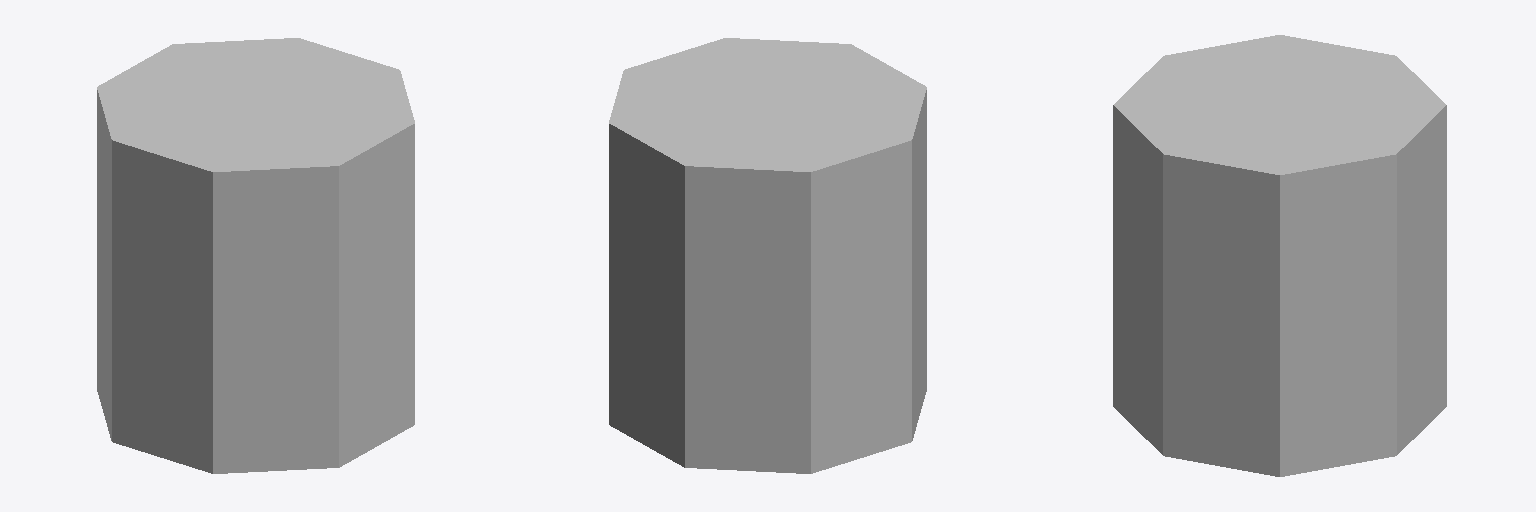
The model's file is NormalMapTest.obj.
The picture shows the model from 3 angles: view 1: azimuth 30°, elevation 25°; view 2: azimuth 150°, elevation 25°; view 3: azimuth 270°, elevation 25°; orthographic projection.
Bounding box in the file's own units: 2 × 2 × 2.